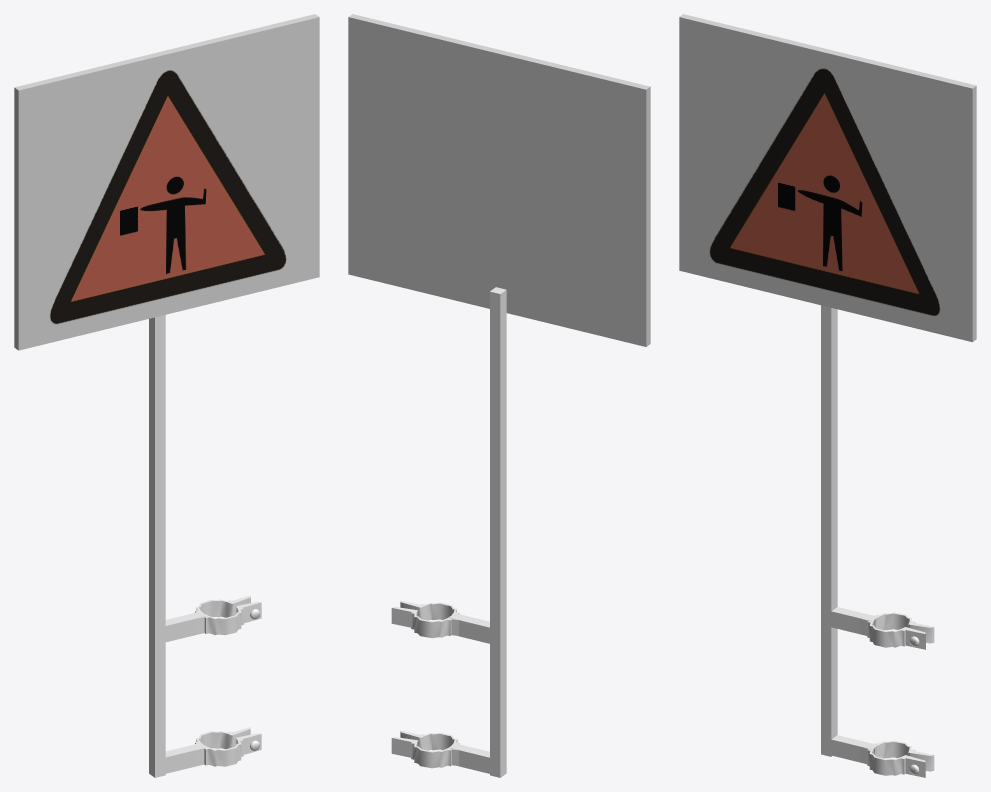
Rendered from 正在施工-S.glb.
3 renders of one model, left to right at view 1: azimuth 30°, elevation 25°; view 2: azimuth 150°, elevation 25°; view 3: azimuth 330°, elevation 25°, orthographic. The views are drawn at different scales.
Parts seen in each view (by area): view 1: 立方体.1-材质.4, 立方体, 立方体.1-材质.2, pCube31, pCube20, 立方体.1, 立方体.2; view 2: 立方体.1-材质.2, 立方体, pCube20, pCube31, 立方体.2, 立方体.1; view 3: 立方体.1-材质.4, 立方体, 立方体.1-材质.2, pCube31, pCube20, 立方体.2, 立方体.1.
Boxes of the visible parts, x1,y1,x2,y2 form: 立方体.1-材质.4: [18, 17, 319, 350]; 立方体: [149, 315, 165, 777]; 立方体.1-材质.2: [14, 14, 318, 350]; pCube31: [194, 595, 261, 635]; pCube20: [194, 727, 261, 766]; 立方体.1: [165, 611, 206, 642]; 立方体.2: [165, 743, 206, 773]; 立方体.1-材质.2: [348, 14, 650, 346]; 立方体: [490, 287, 506, 777]; pCube20: [391, 730, 459, 768]; pCube31: [391, 600, 459, 638]; 立方体.2: [449, 743, 491, 774]; 立方体.1: [449, 613, 491, 644]; 立方体.1-材质.4: [679, 17, 972, 342]; 立方体: [821, 305, 837, 756]; 立方体.1-材质.2: [679, 14, 976, 341]; pCube31: [860, 612, 934, 649]; pCube20: [860, 740, 934, 777]; 立方体.2: [831, 735, 877, 762]; 立方体.1: [831, 607, 877, 634].
Size of the model in its own units: 7.01 by 16.13 by 0.9508.
4 materials, 1 textured.
